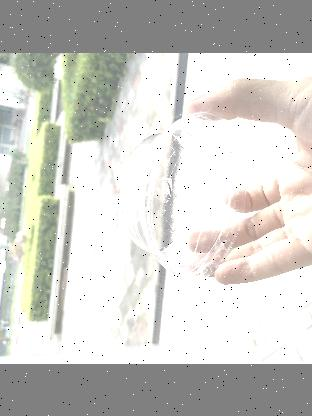Others: (116, 108, 248, 282)
